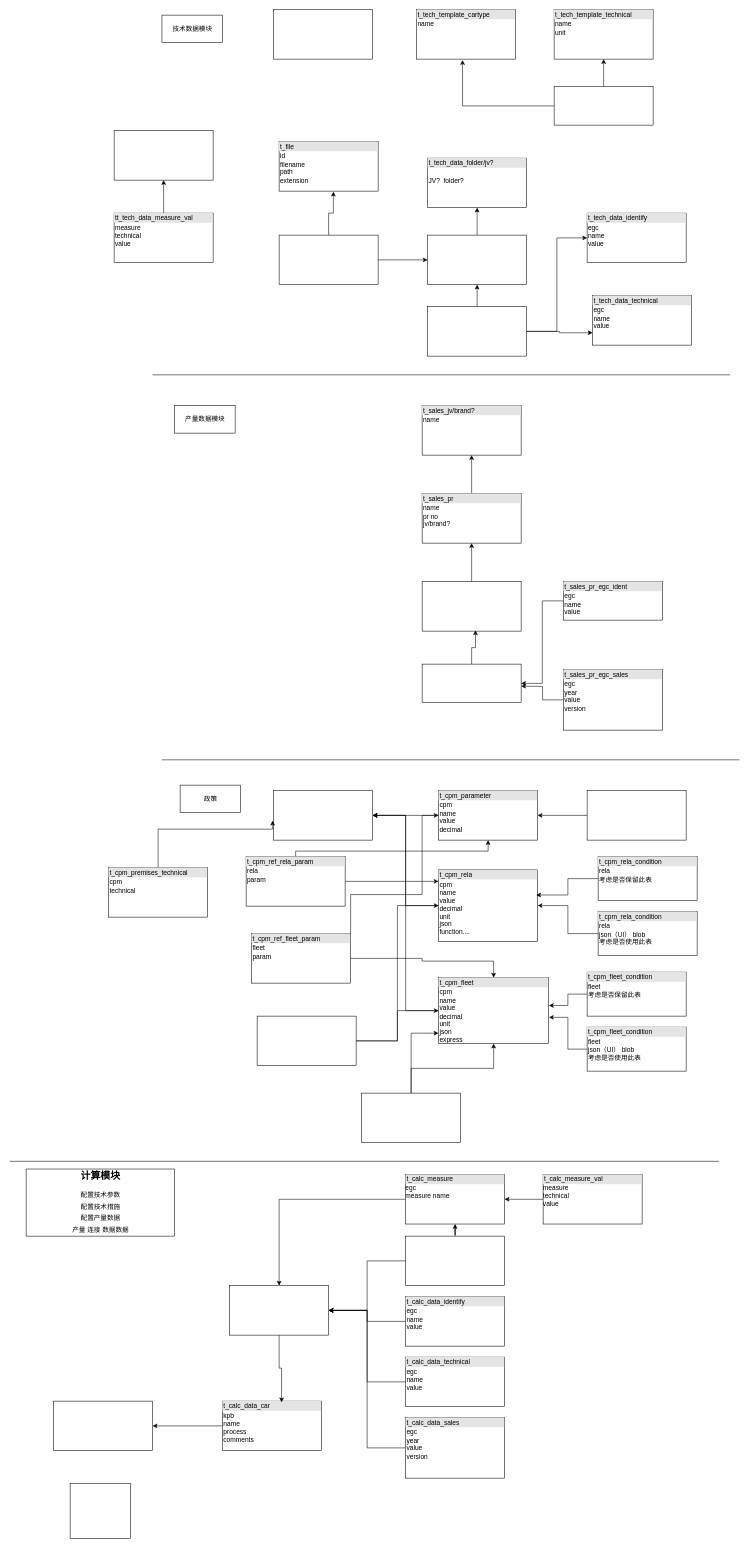
Some shapes in this 749 by 1548 pixel diagram are drawn without their labels. The centre of each missing label's shape, as x and y in pixels:
t_calc_data_egc car titile status cartype: point (279, 1310)
t_calc_process name status: point (103, 1426)
t_calc_roadmap egc year ratio measure: point (455, 1261)
t_cpm_parameter_year param year-start year-end value: point (636, 815)
t_cpm_premises name prno status: point (323, 815)
t_cpm_ref_fleet_fleet fleet fleet: point (411, 1118)
t_cpm_ref_fleet_rela fleet rela: point (306, 1041)
t_sales_pr_car pr kpb name: point (471, 606)
t_sales_pr_egc car title: point (471, 683)
t_tech_data_car kpb name JV? folder? version? comments: point (477, 260)
t_tech_data_car_source car file: point (328, 260)
t_tech_data_egc car titile status cartype: point (477, 331)
t_tech_template_identifyer name type: point (323, 34)
t_tech_template_tech_assign cartype technical ref_type: point (603, 105)
tt_tech_data_measure name status: point (163, 155)
配置法规 关联还是复制一份: point (100, 1511)
